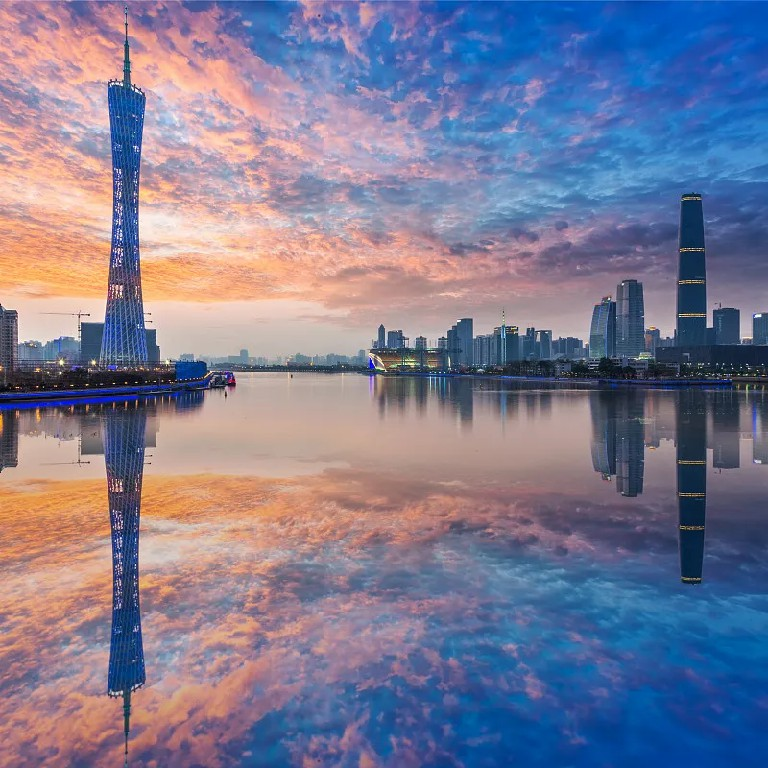Canton: (99, 4, 150, 373)
